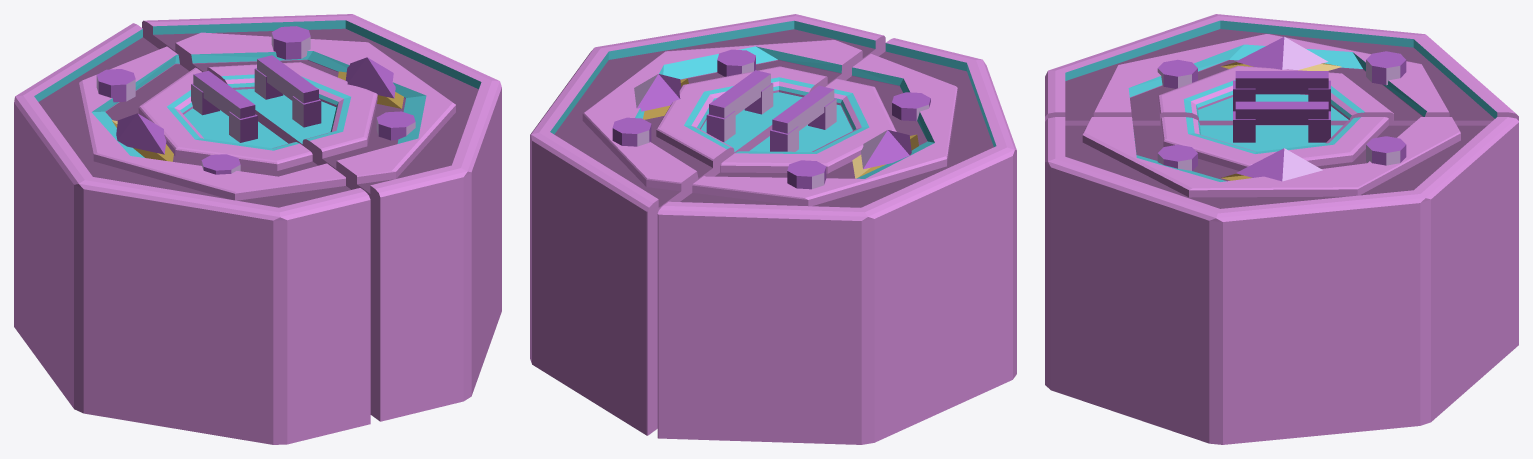
File: amethyst_door.fbx
The picture shows the model from 3 angles, left to right: view 1: azimuth 30°, elevation 25°; view 2: azimuth 150°, elevation 25°; view 3: azimuth 270°, elevation 25°; orthographic projection.
Parts seen in each view (by area): view 1: amethyst_door_panel_left, amethyst_door_panel_right; view 2: amethyst_door_panel_left, amethyst_door_panel_right; view 3: amethyst_door_panel_right, amethyst_door_panel_left.
Part boxes in pixels (x1,y1,x2,y2): amethyst_door_panel_left: (14, 23, 370, 444); amethyst_door_panel_right: (142, 14, 501, 421); amethyst_door_panel_left: (657, 38, 1016, 444); amethyst_door_panel_right: (530, 14, 885, 435); amethyst_door_panel_right: (1045, 101, 1518, 444); amethyst_door_panel_left: (1045, 14, 1518, 125).
Size of the model in its own units: 3.87 by 2.22 by 3.78.
Materials: 1 (1 with a texture image).
